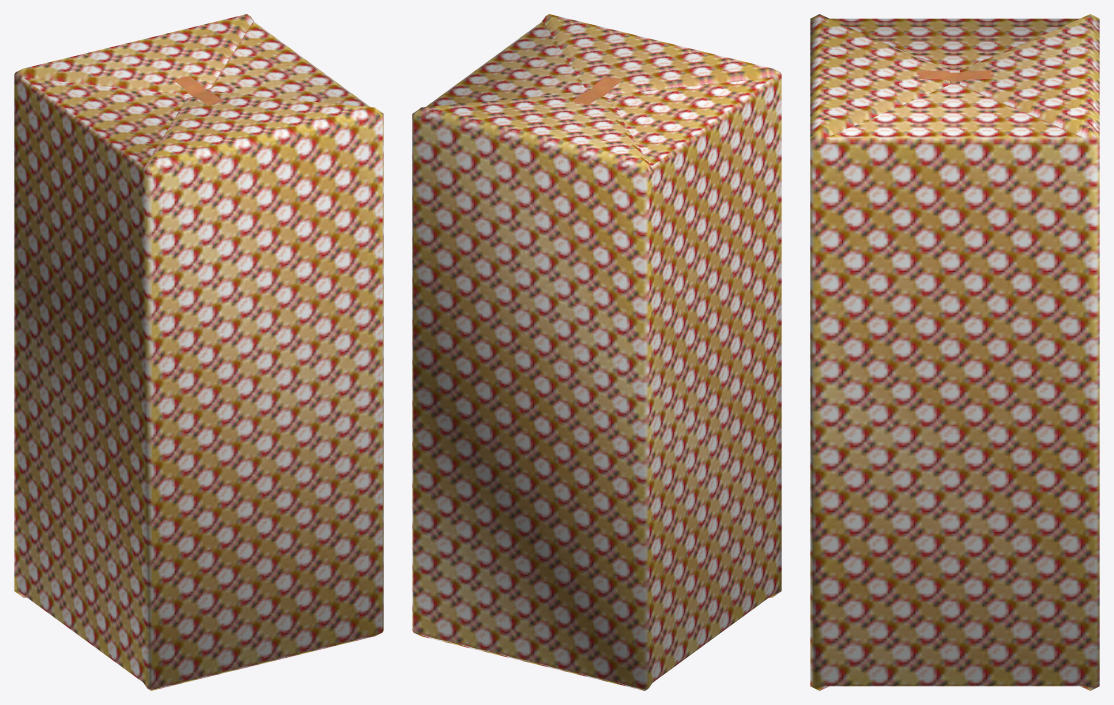
3 renders of one model, left to right at view 1: azimuth 30°, elevation 25°; view 2: azimuth 150°, elevation 25°; view 3: azimuth 270°, elevation 25°, orthographic. The views are drawn at different scales.
Parts seen in each view (by area): view 1: smMAT0110019; view 2: smMAT0110019; view 3: smMAT0110019.
Part boxes in pixels (box(x1,y1,x2,y2)): smMAT0110019: box(14, 14, 383, 690); smMAT0110019: box(412, 14, 781, 690); smMAT0110019: box(810, 14, 1099, 690).
Bounding box in the file's own units: 34.42 × 73.63 × 34.42.
Materials: 1 (1 with a texture image).
